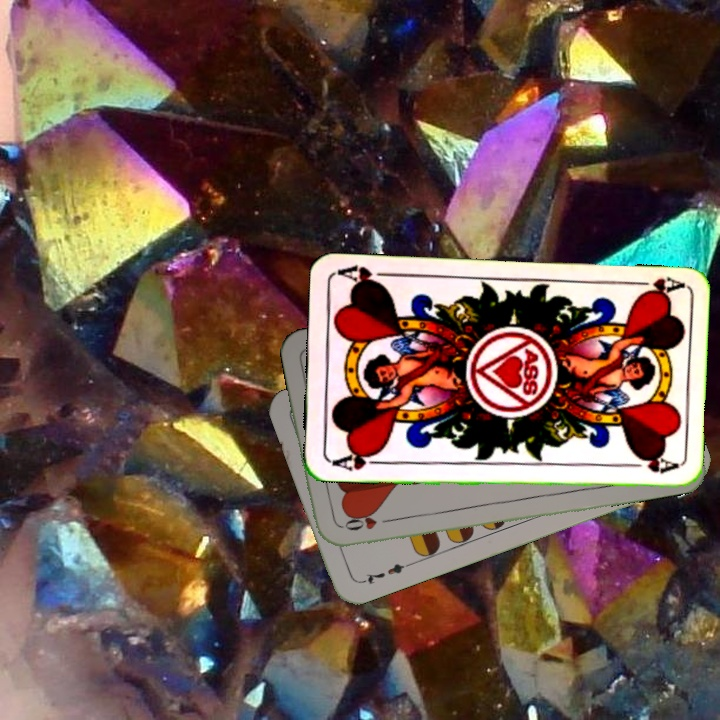E7: (356, 559, 414, 587)
HA: (327, 447, 387, 474), (625, 273, 684, 300)
HO: (336, 513, 395, 533)
